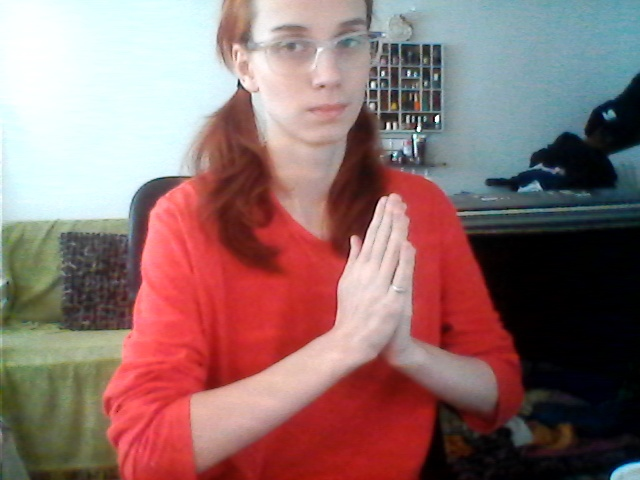prosim: (292, 190, 460, 401)
